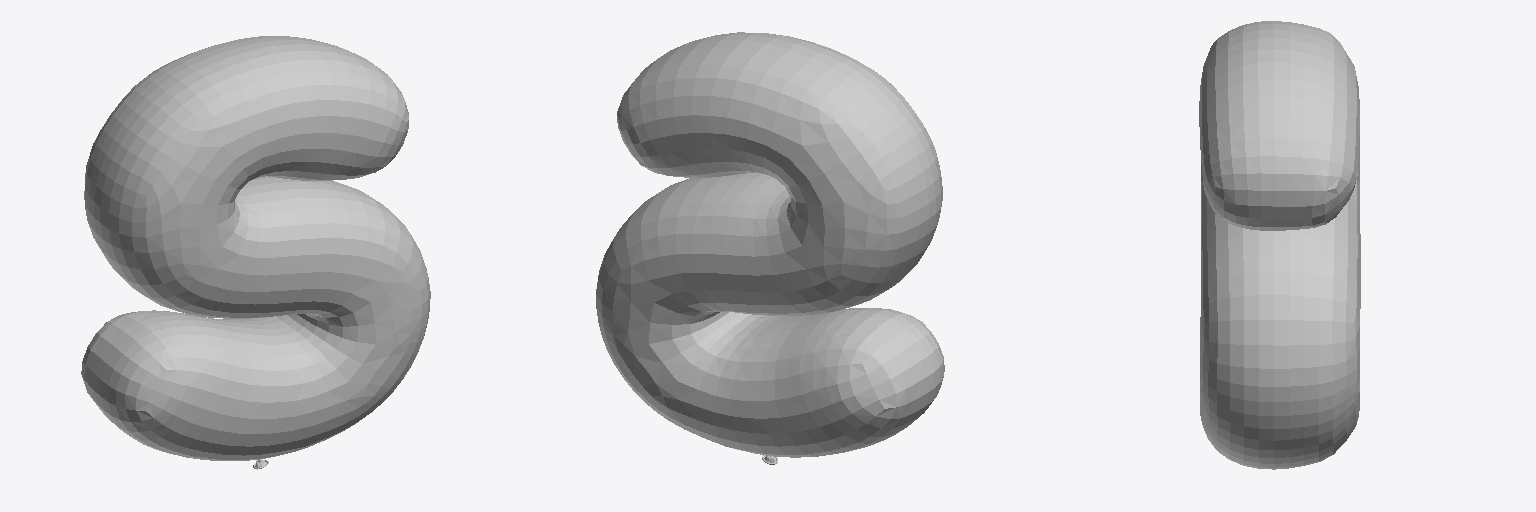
3 views of the same model, side by side, from view 1: azimuth 30°, elevation 25°; view 2: azimuth 150°, elevation 25°; view 3: azimuth 270°, elevation 25° (orthographic).
Visible parts, largest first — view 1: Balloon_Alphabet_Subdivision_S_Alphabet_S; view 2: Balloon_Alphabet_Subdivision_S_Alphabet_S; view 3: Balloon_Alphabet_Subdivision_S_Alphabet_S.
Boxes of the visible parts, x1=… form: Balloon_Alphabet_Subdivision_S_Alphabet_S: x1=81, y1=36, x2=430, y2=469; Balloon_Alphabet_Subdivision_S_Alphabet_S: x1=596, y1=32, x2=944, y2=464; Balloon_Alphabet_Subdivision_S_Alphabet_S: x1=1199, y1=21, x2=1360, y2=469.
Size of the model in its own units: 40.78 by 51.48 by 18.